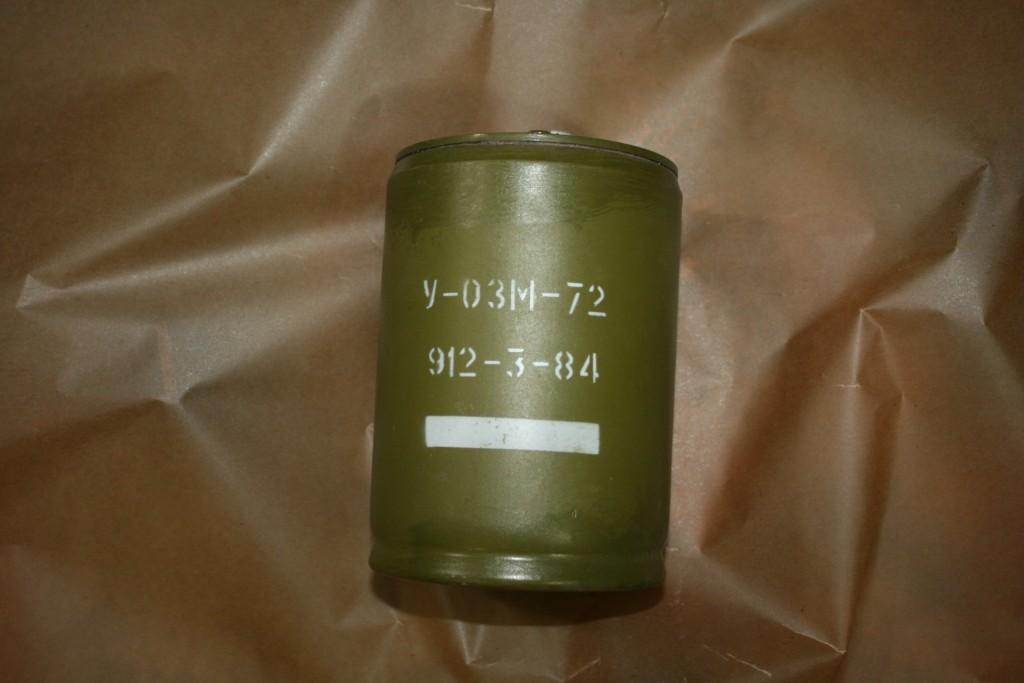OZM 72: (366, 130, 680, 595)
